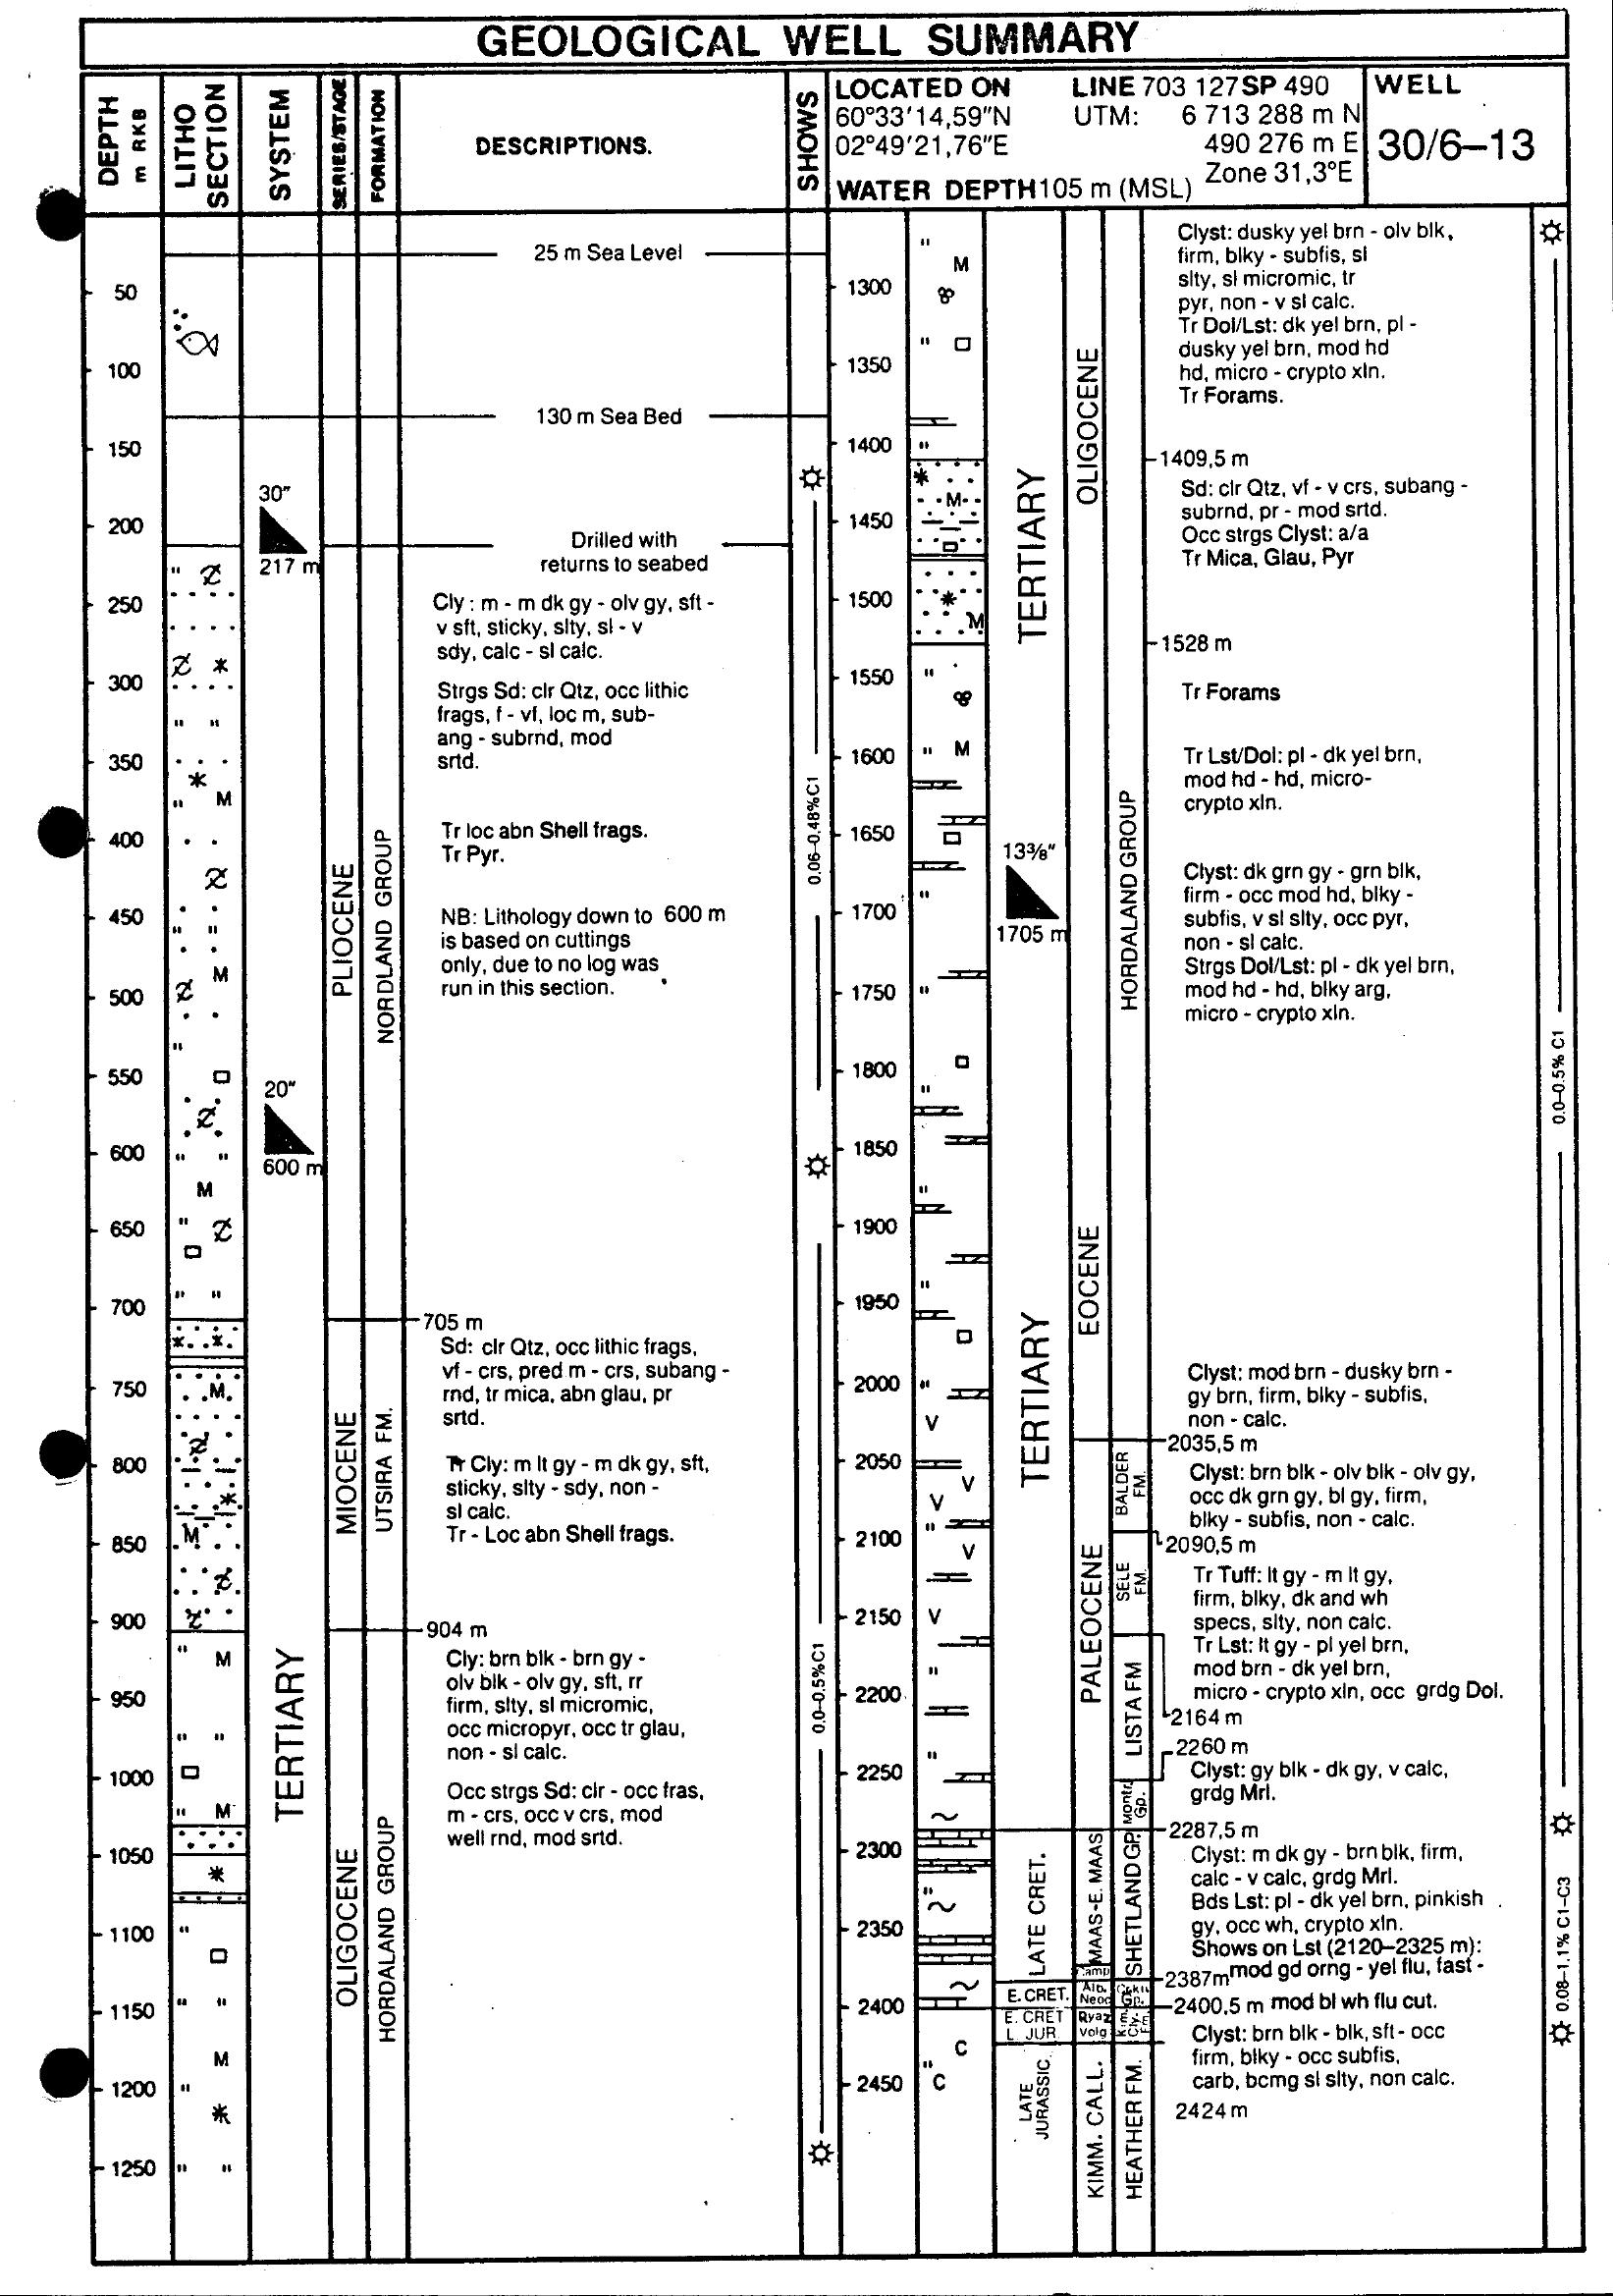graph: (58, 21, 1613, 2272)
